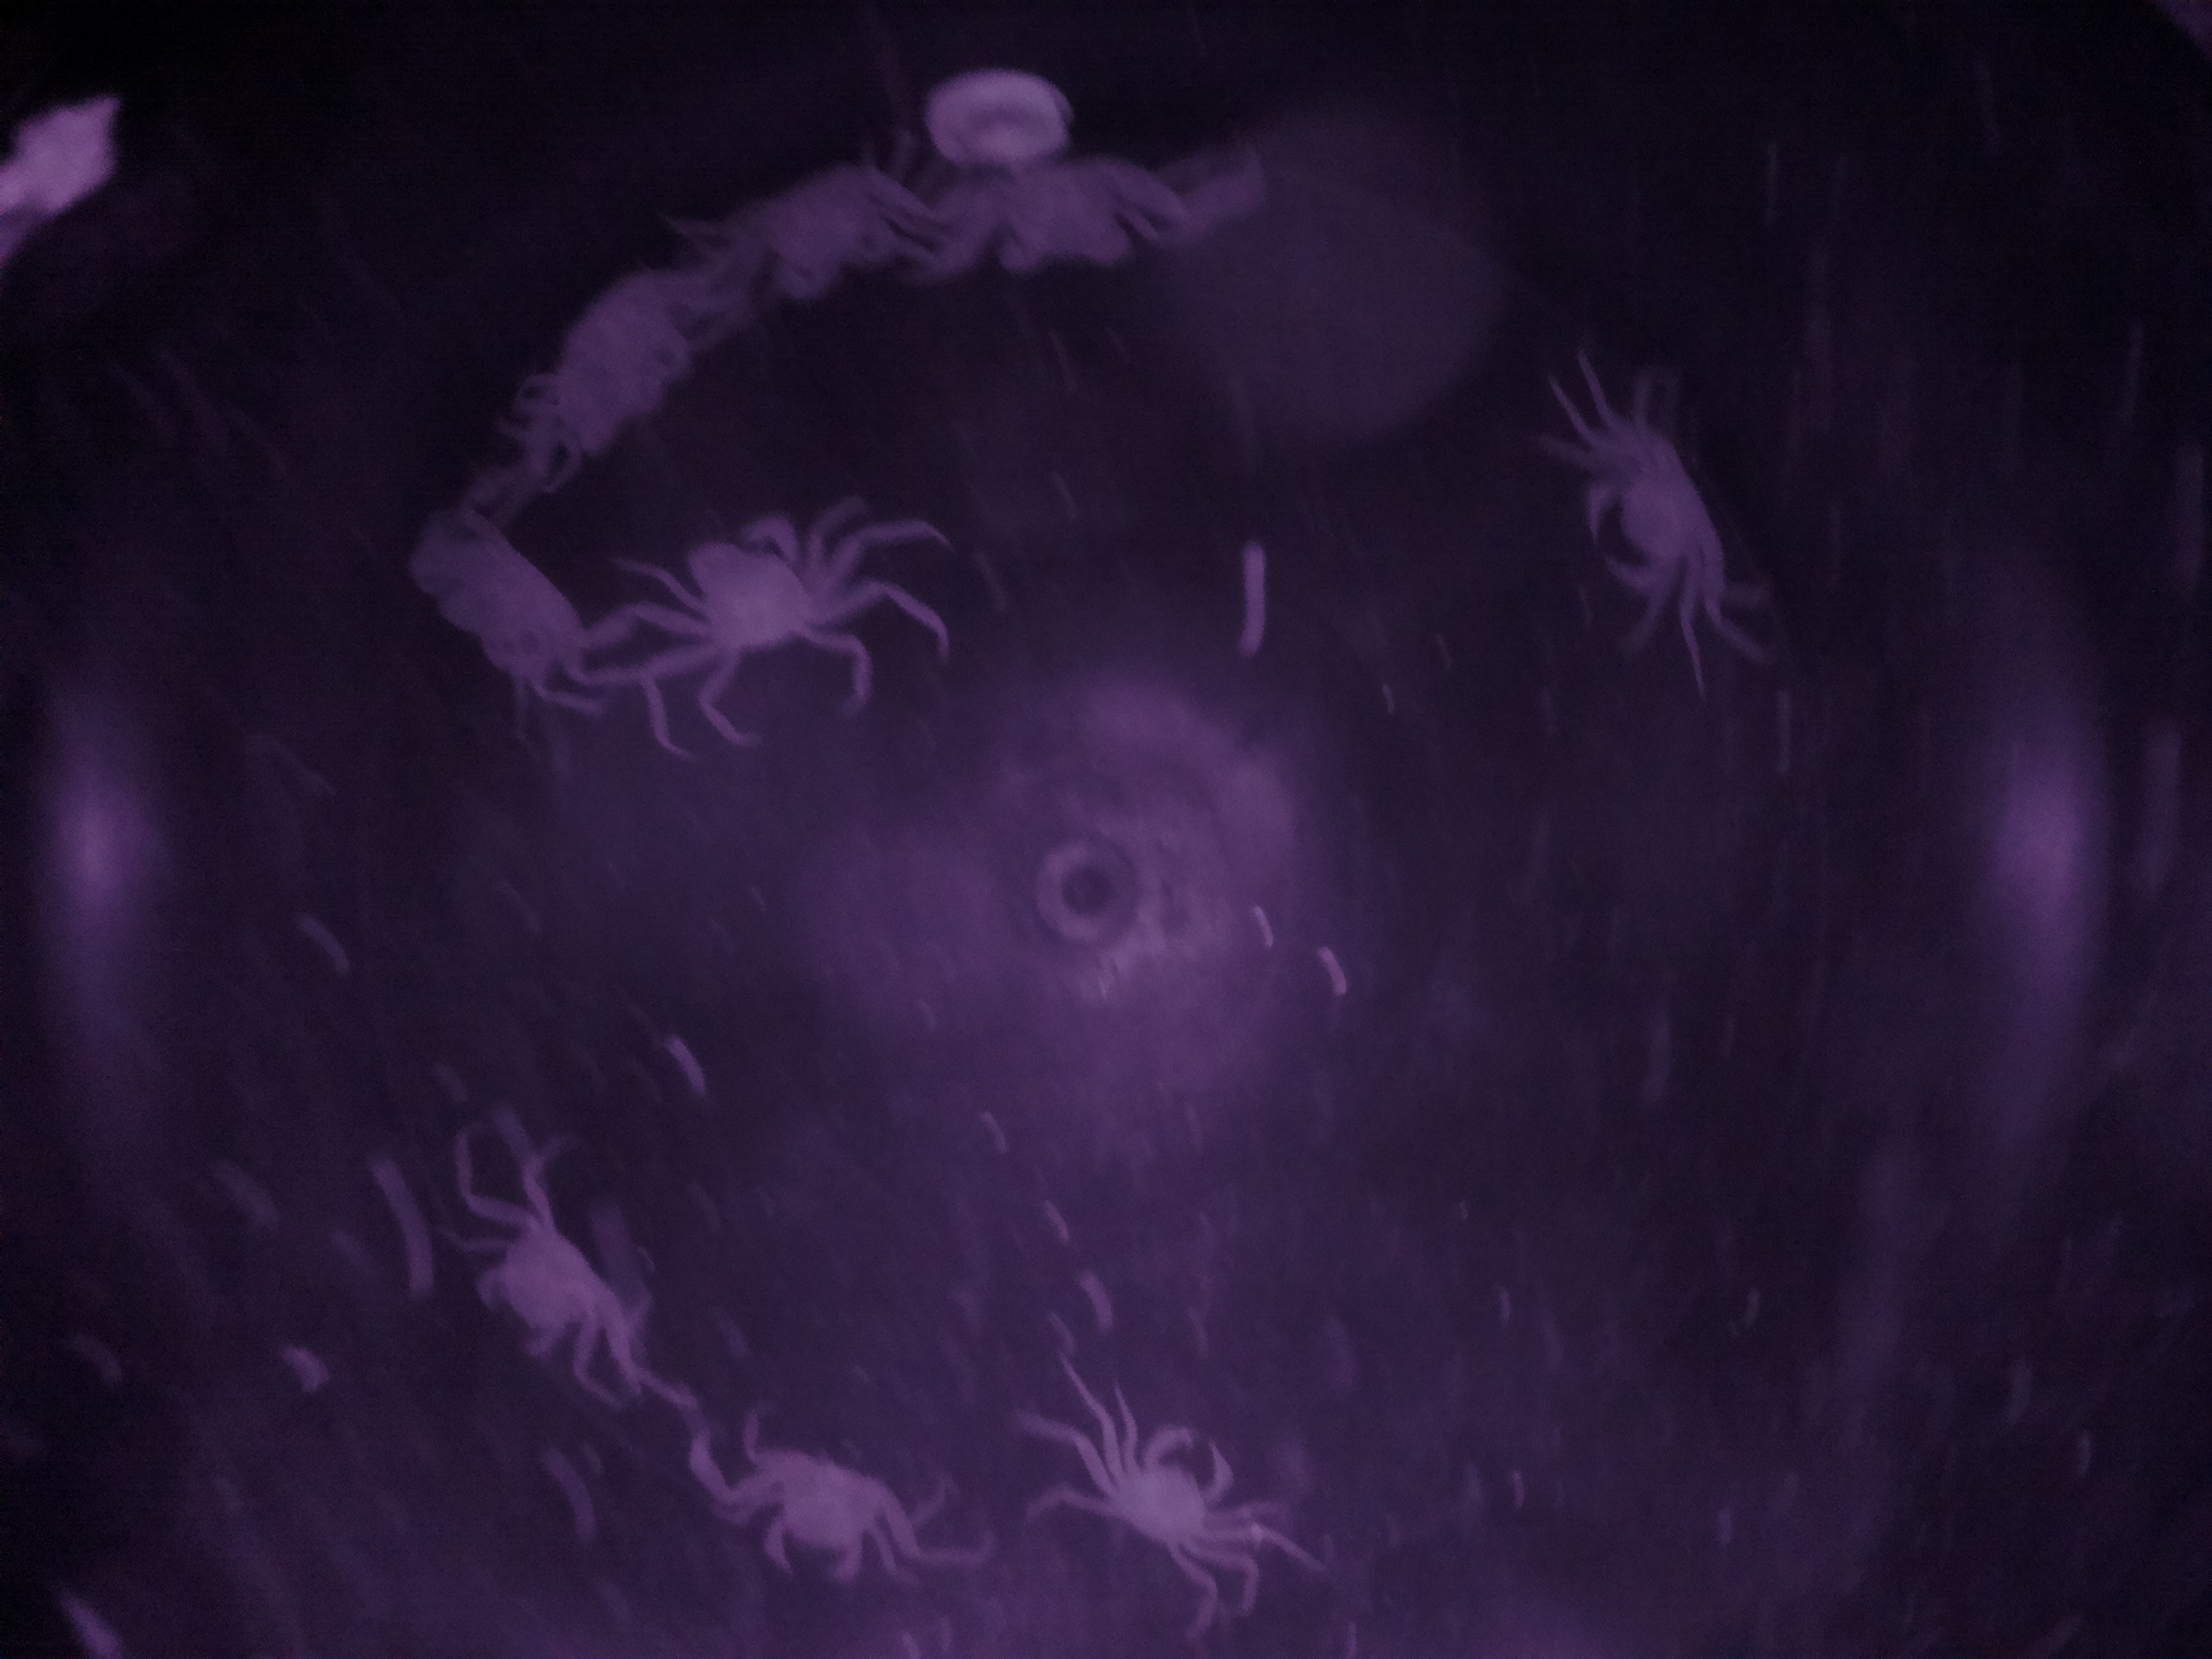Crab: (456, 1190, 637, 1385), (1561, 437, 1757, 612), (1083, 1396, 1249, 1595), (742, 1424, 913, 1610), (665, 502, 838, 673)
